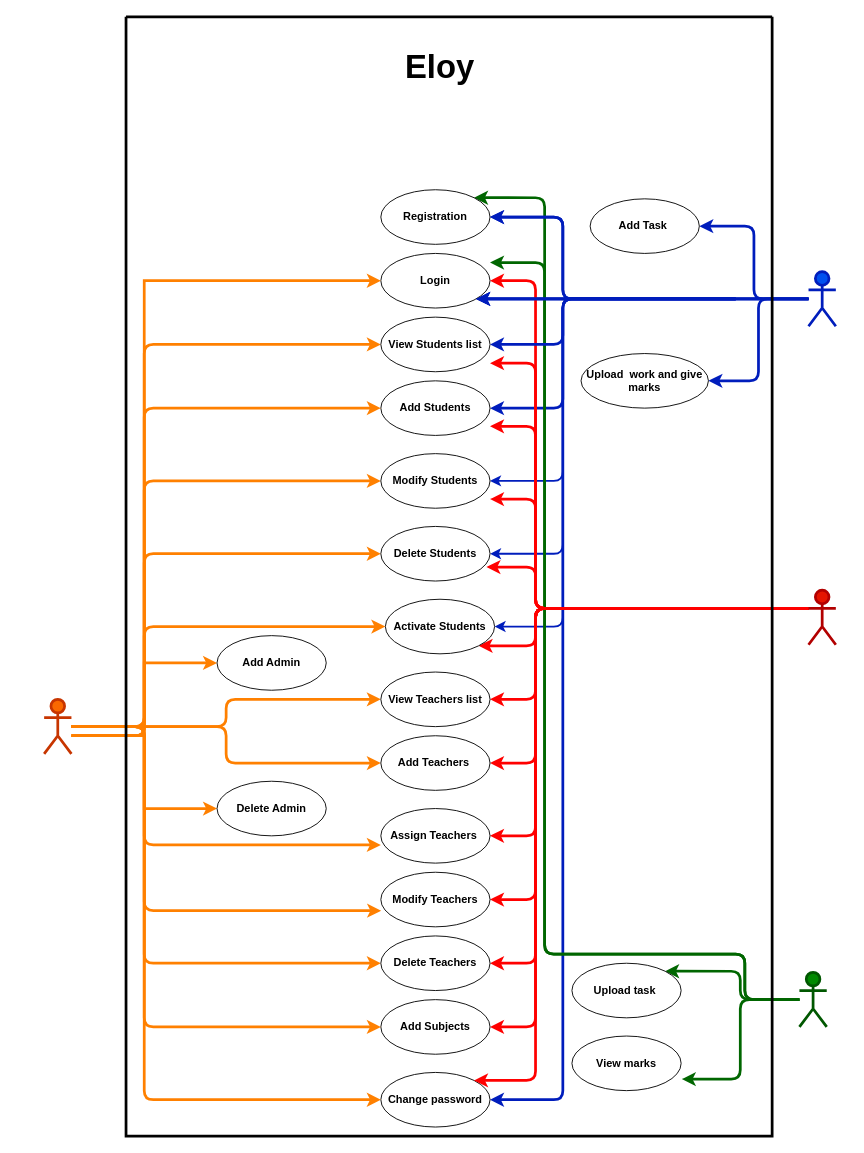
Some shapes in this 864 by 1153 pixel diagram are drawn without their labels. Here are the shapes that lost their labels. From the top down, the centre of each, then its label:
At [822,298]: "Teacher".
At [822,617]: "Admin".
At [57,726]: "Super Admin".
At [813,999]: "Student".
